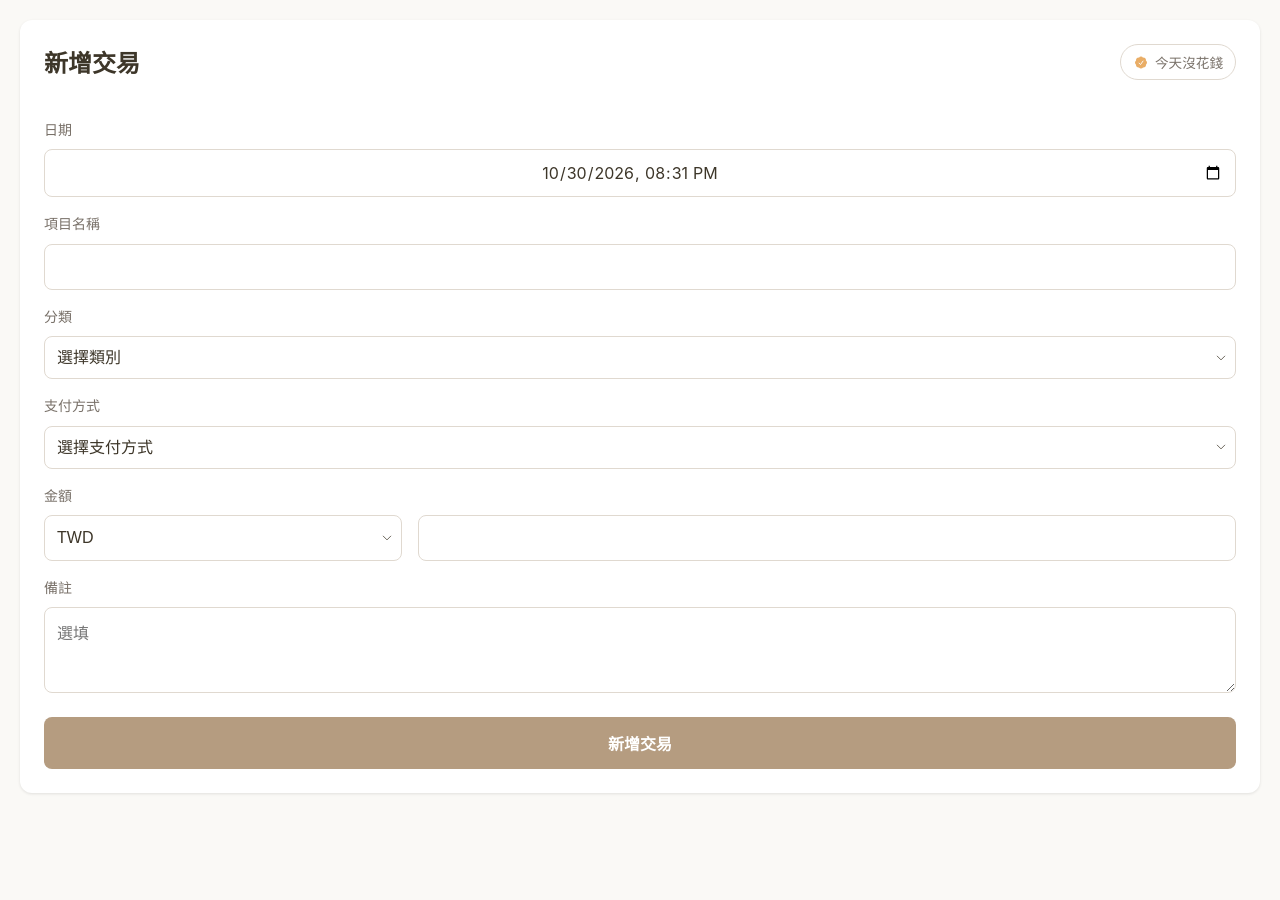
Test: 新增交易 › 選現金或沒費率的卡不出現；選有費率的卡才出現；選收入分類消失
Select "現金" in the dropdown with id "method": (640, 447) [44,426,1236,468]
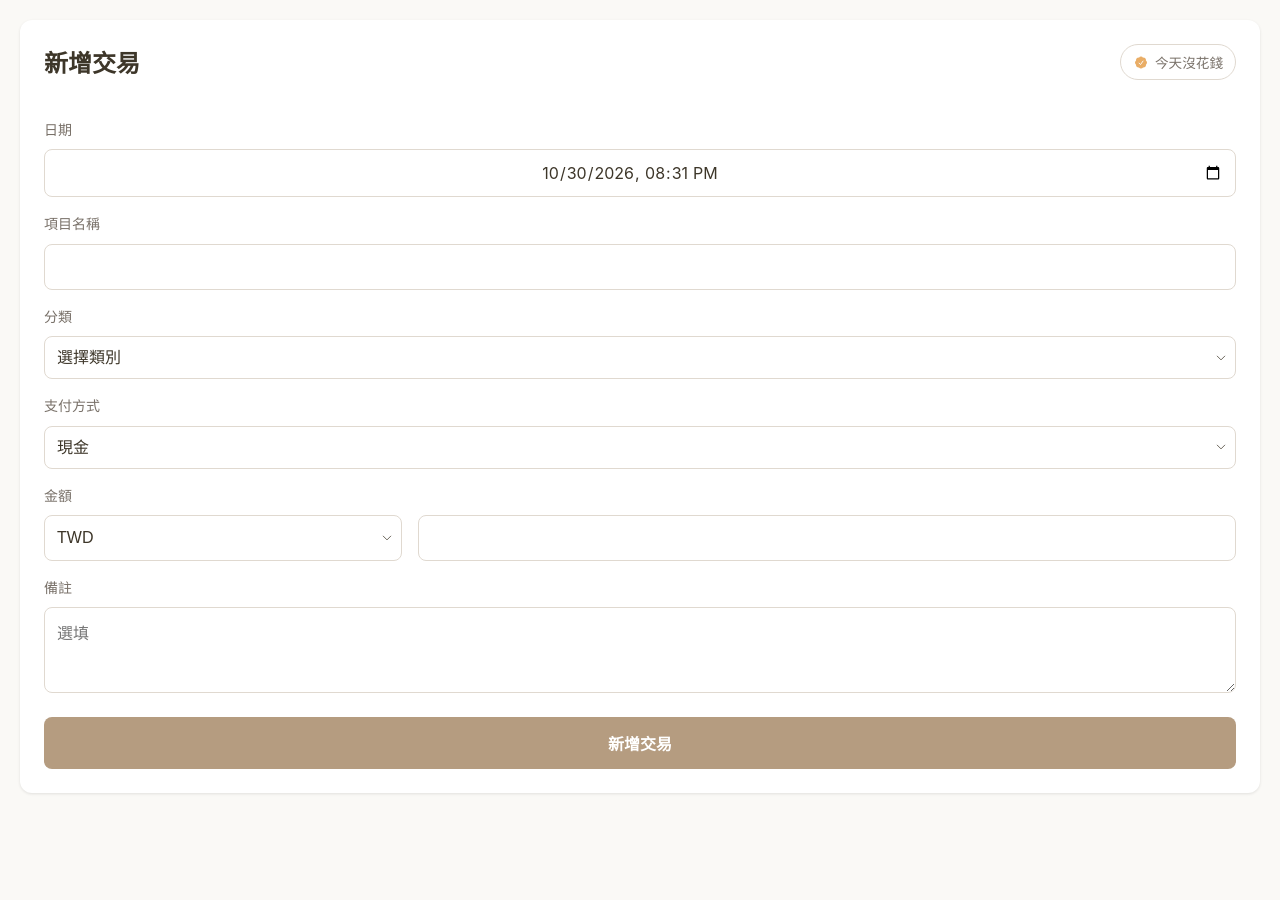
Select "普通卡" in the dropdown with id "method": (640, 447) [44,426,1236,468]
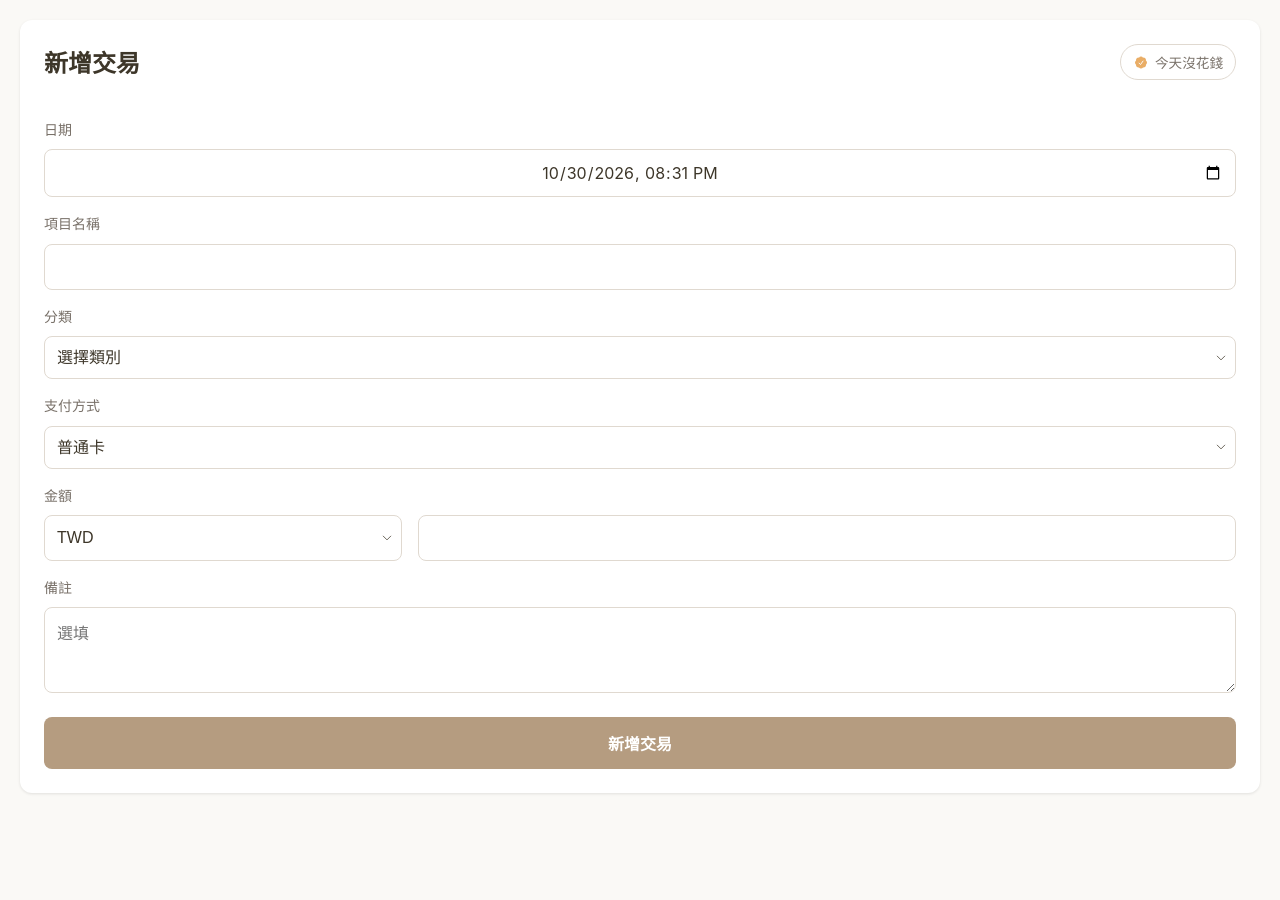
Select "英國卡" in the dropdown with id "method": (640, 447) [44,426,1236,468]
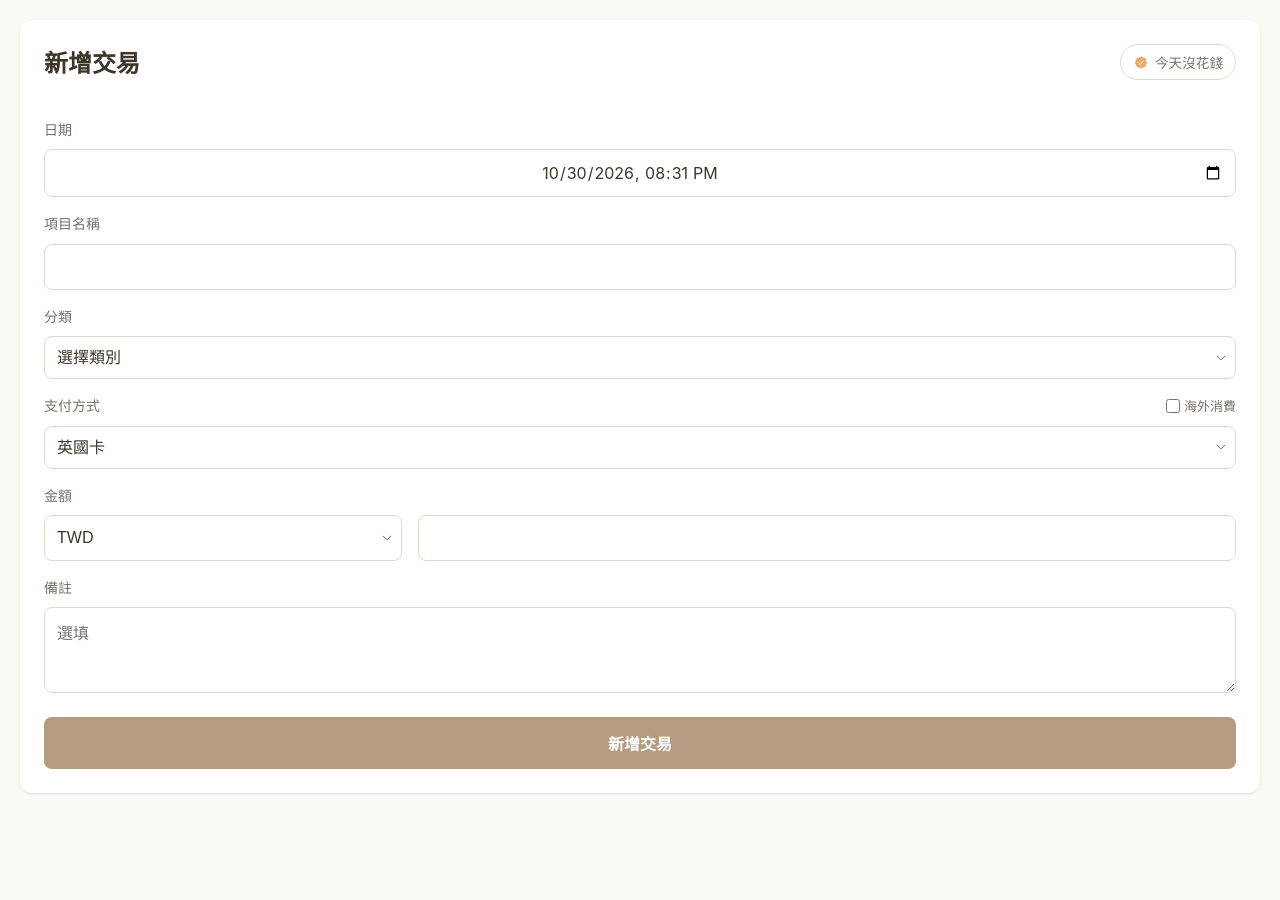
Now the checkbox with id "overseas" is shown, box [1166,399,1180,413]
Select "薪水" in the dropdown with id "category": (640, 358) [44,336,1236,379]
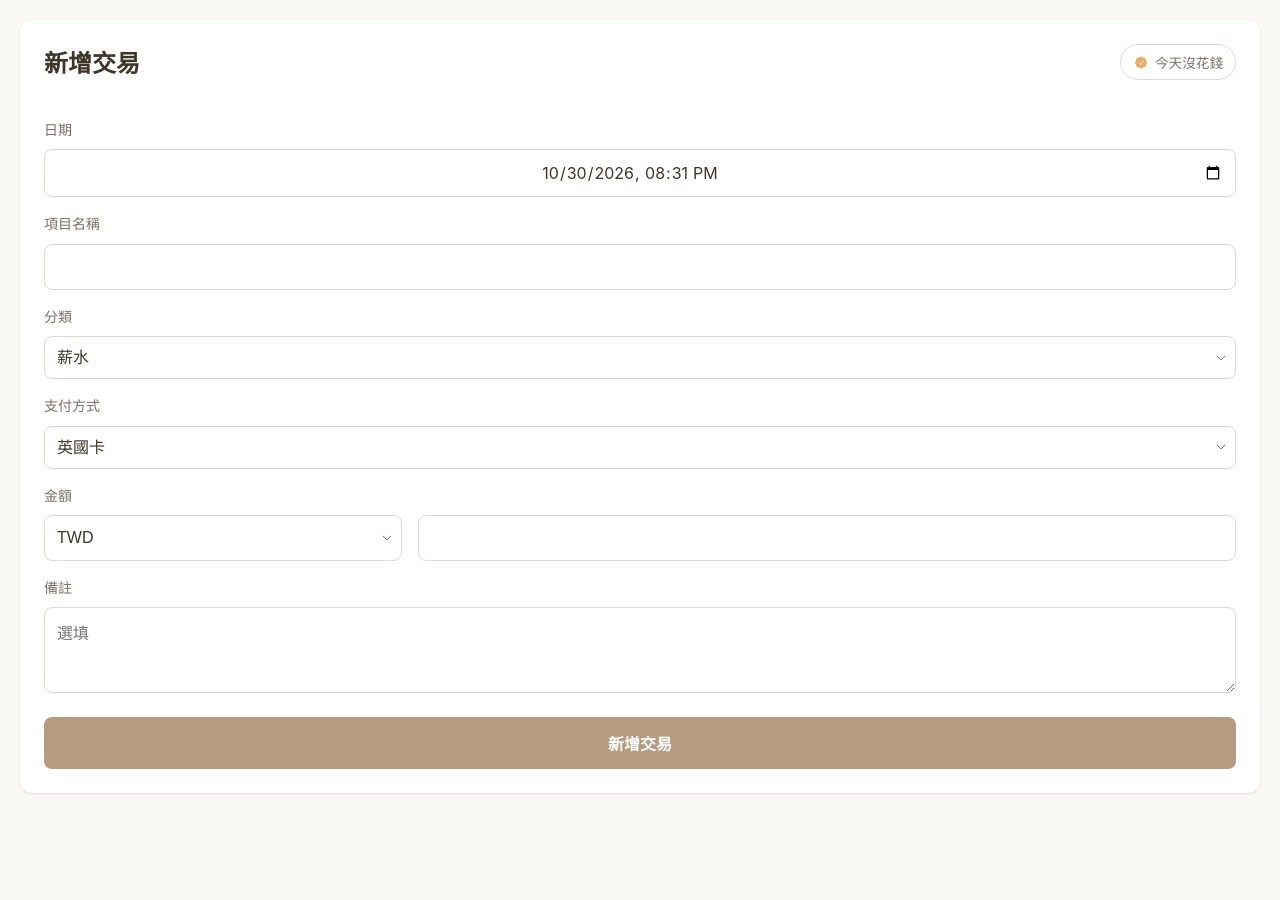
Now the checkbox with id "overseas" is gone
Select "飲食" in the dropdown with id "category": (640, 358) [44,336,1236,379]
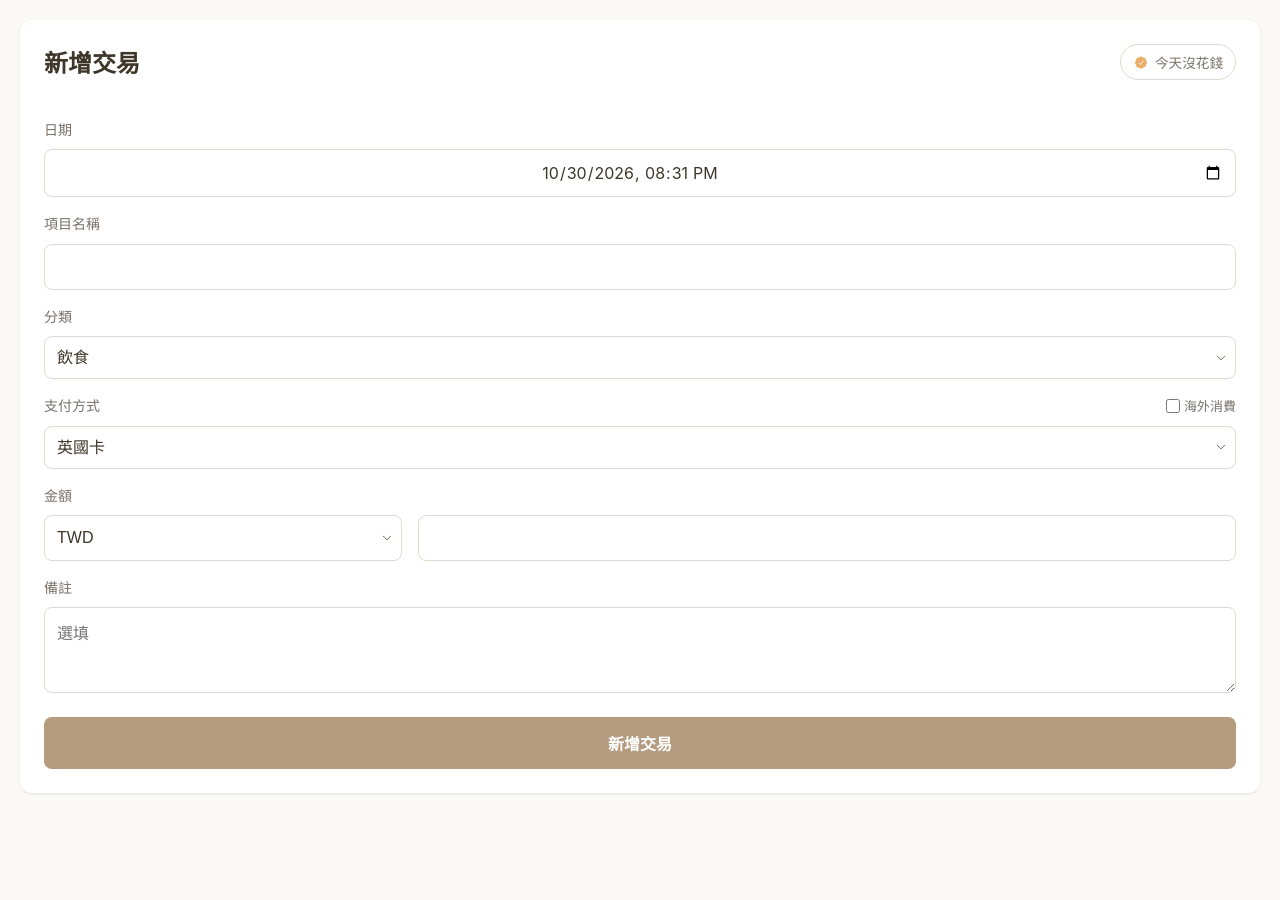
Now the checkbox with id "overseas" is shown, box [1166,399,1180,413]
